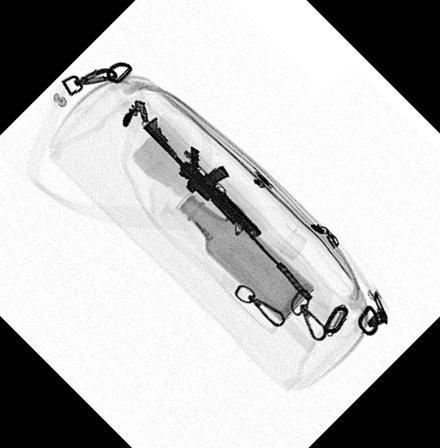Gun: (140, 115, 315, 302)
